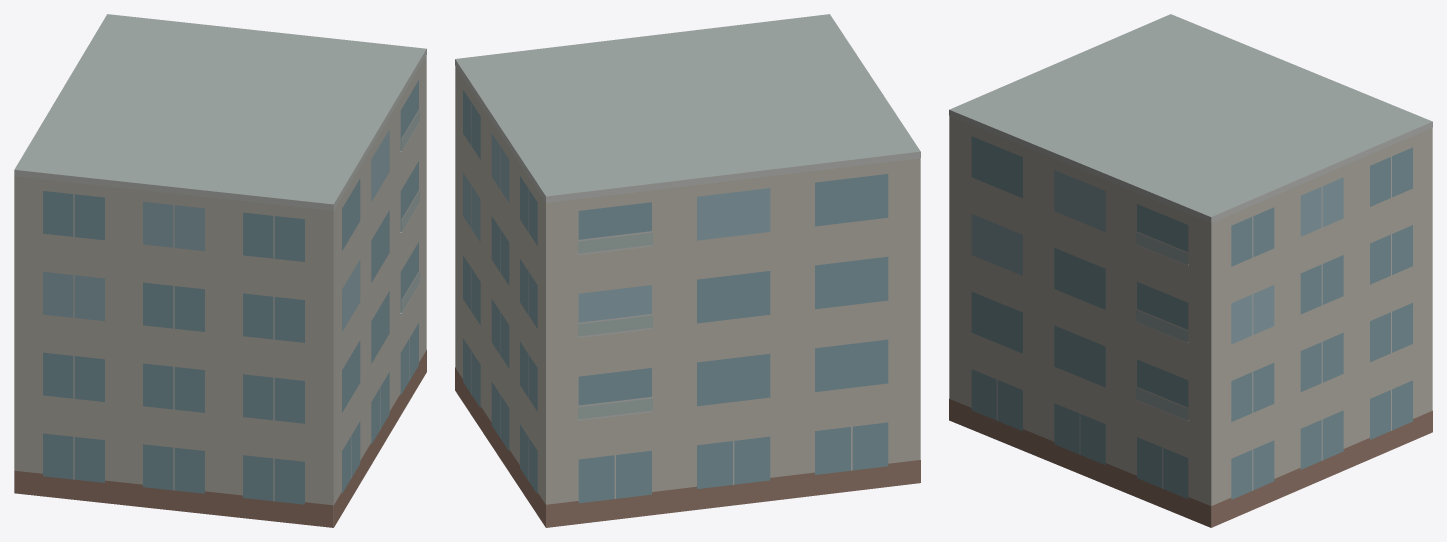
File: survey-upis-32886576.glb
3 views of the same model, side by side, from view 1: azimuth 30°, elevation 25°; view 2: azimuth 150°, elevation 25°; view 3: azimuth 270°, elevation 25° (orthographic). The views are drawn at different scales.
Visible parts, largest first — view 1: survey-upis-32886576.tmp; view 2: survey-upis-32886576.tmp; view 3: survey-upis-32886576.tmp.
Part boxes in pixels (<box>): survey-upis-32886576.tmp: <box>14,14,426,527</box>; survey-upis-32886576.tmp: <box>455,14,920,527</box>; survey-upis-32886576.tmp: <box>949,14,1432,527</box>.
Size of the model in its own units: 17.4 by 12.4 by 17.5.
